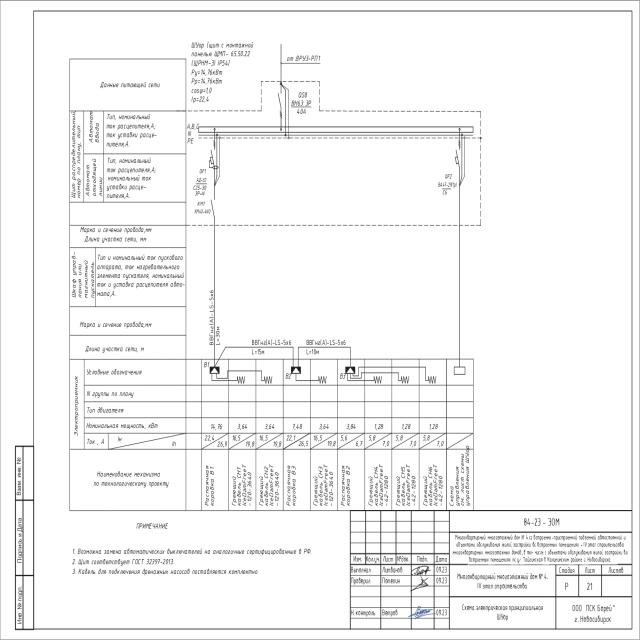-: (190, 41, 253, 67), (291, 100, 313, 116), (192, 178, 208, 196), (438, 183, 458, 197), (193, 209, 211, 216)
KM: (210, 196, 216, 218)
QF: (454, 148, 461, 168)
QFD: (208, 148, 218, 170)
QS: (278, 91, 282, 108)
